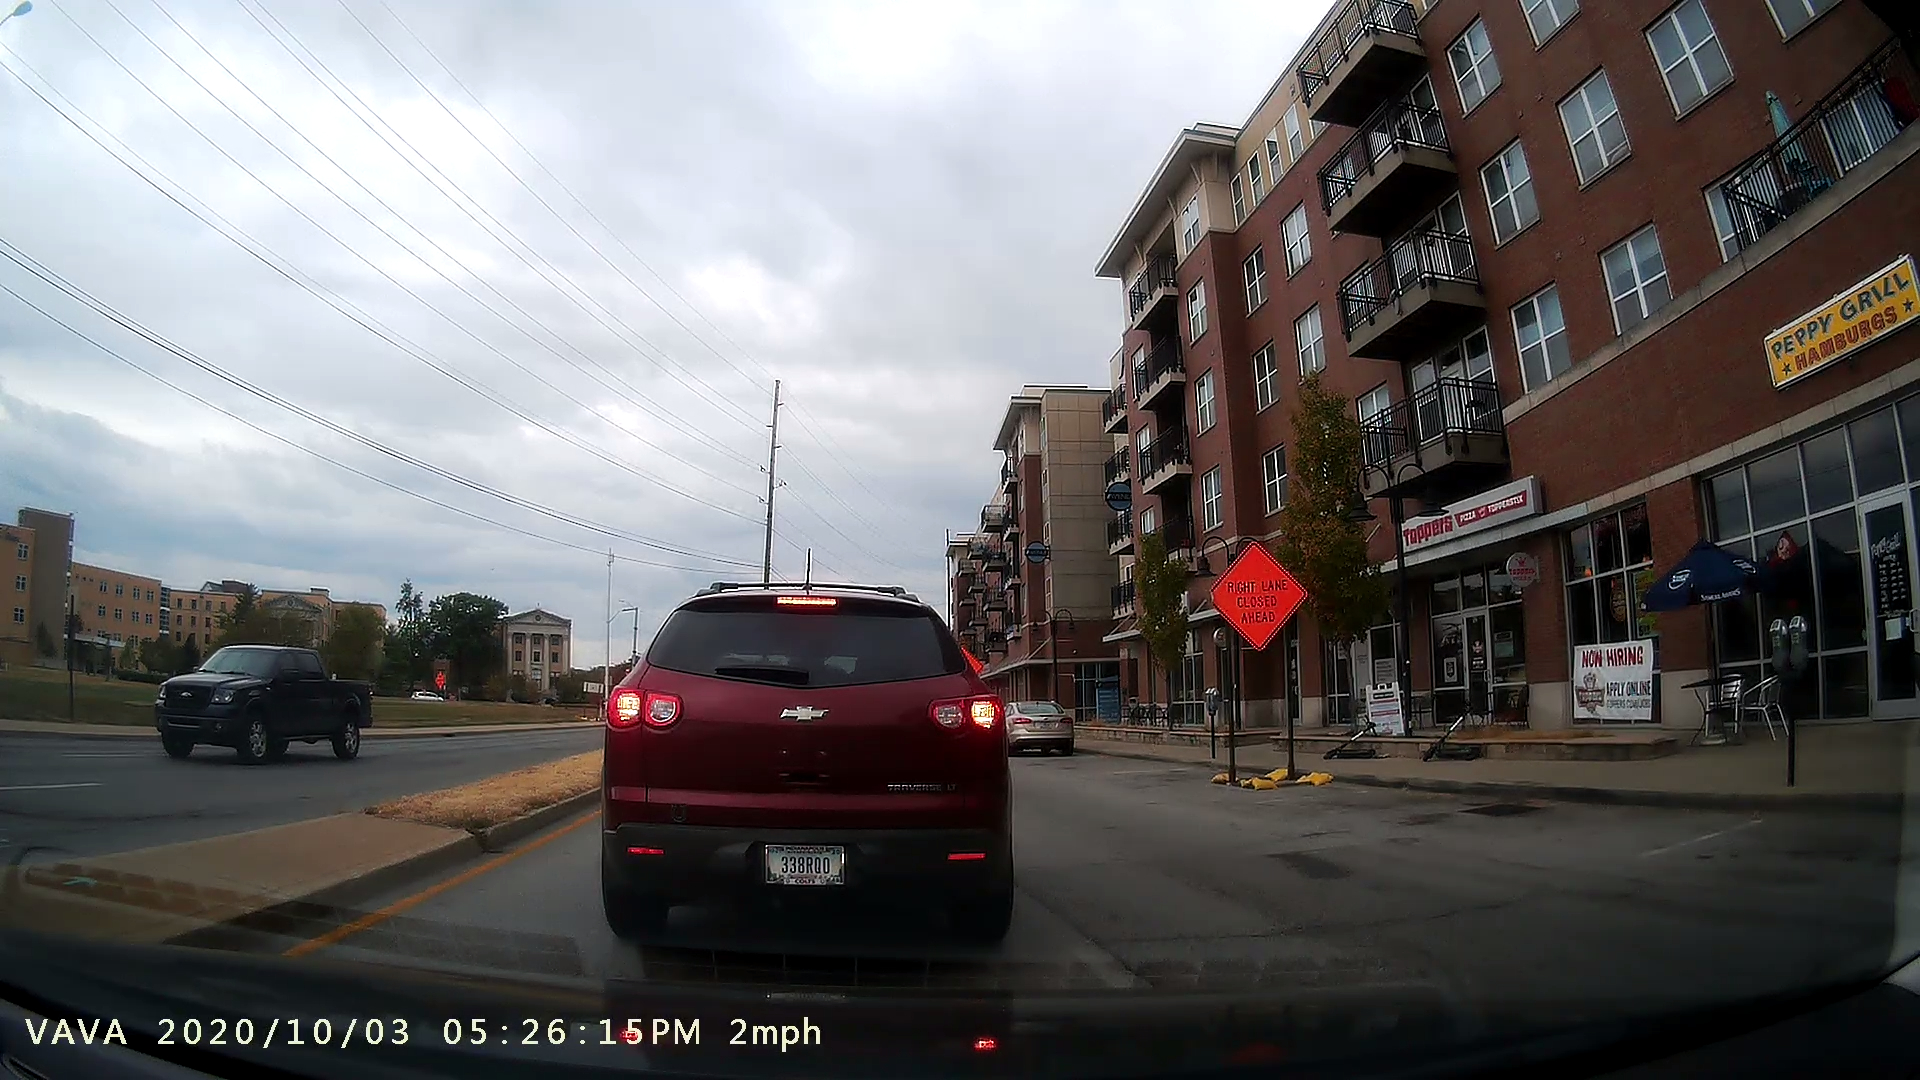ttcs_right_lane_closed_ahead: (1196, 525, 1335, 781)
